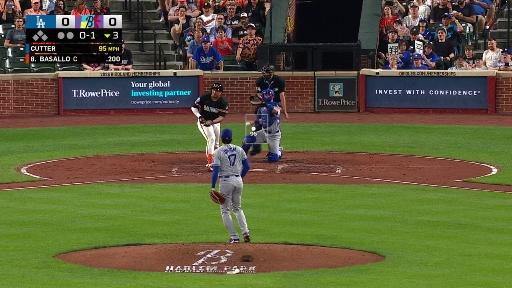pitcher: (210, 128, 252, 244)
